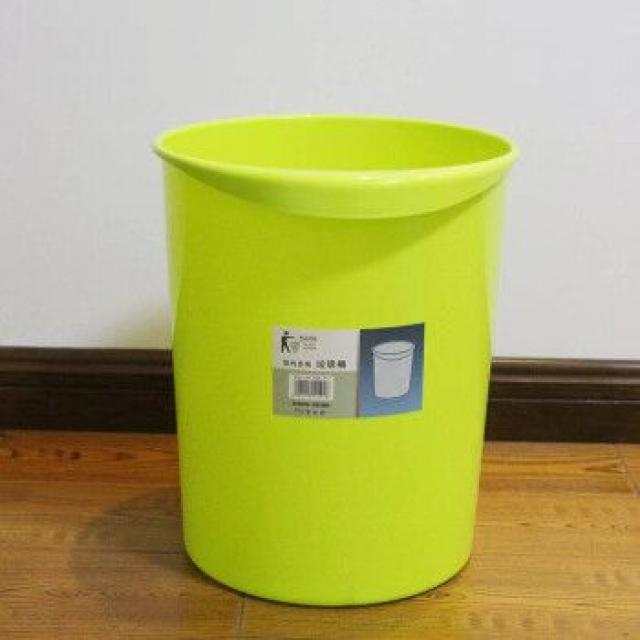Dustbin: (146, 109, 524, 611)
